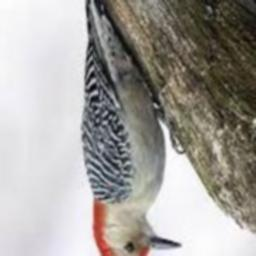Woodpecker: (62, 0, 181, 256)
